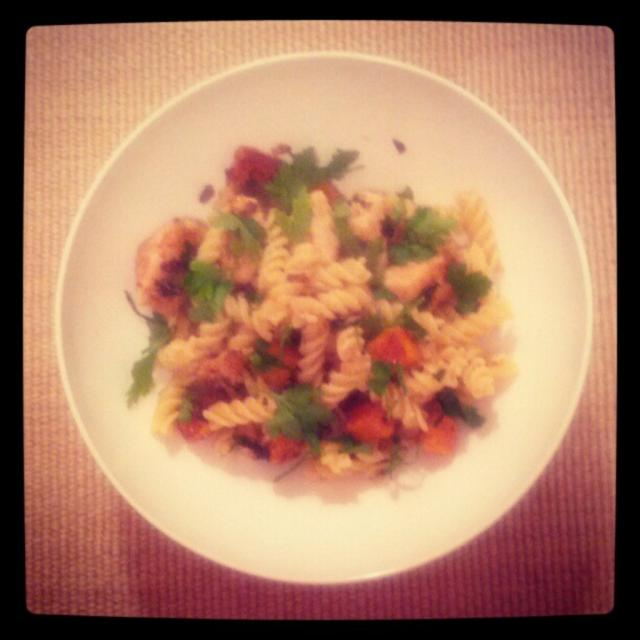non-organic waste: (60, 55, 595, 591)
